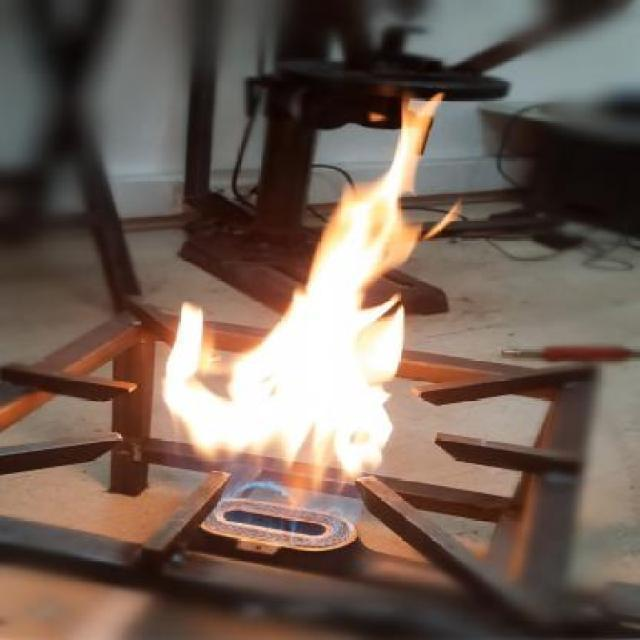Fire: (160, 84, 462, 507)
